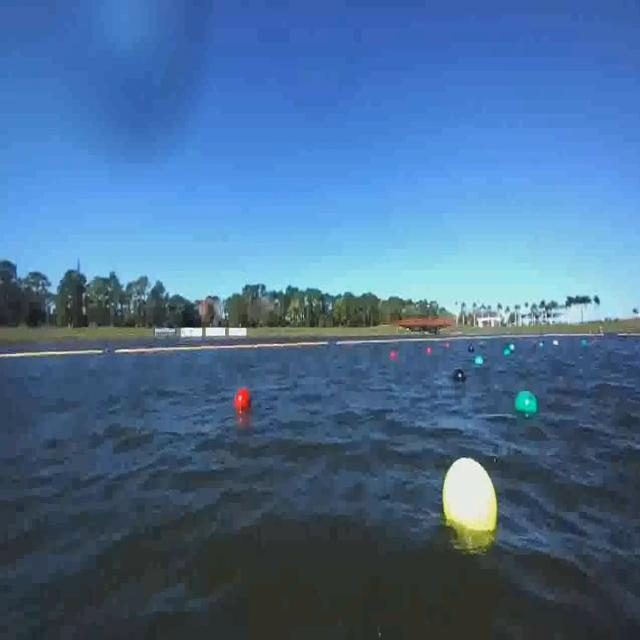black-buoy: (452, 370, 468, 384)
green-buoy: (512, 393, 537, 418), (473, 354, 483, 366)
red-buoy: (234, 386, 249, 408)
yellow-buoy: (441, 456, 498, 557)
